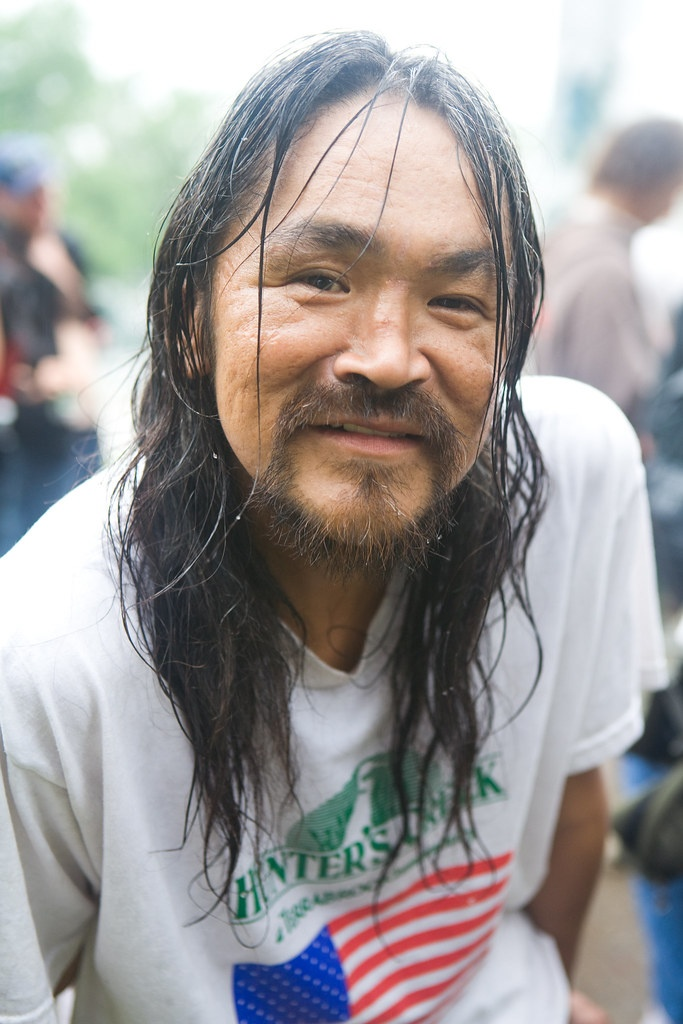without_mask: (186, 99, 527, 558)
